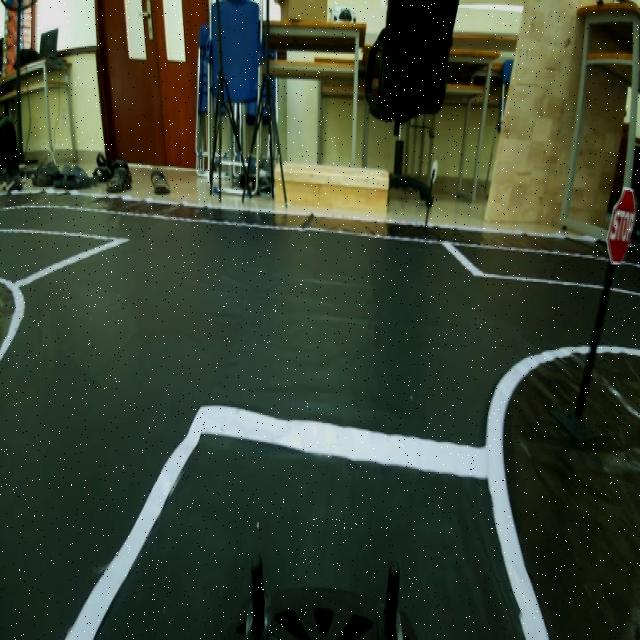stop: (602, 174, 640, 266)
